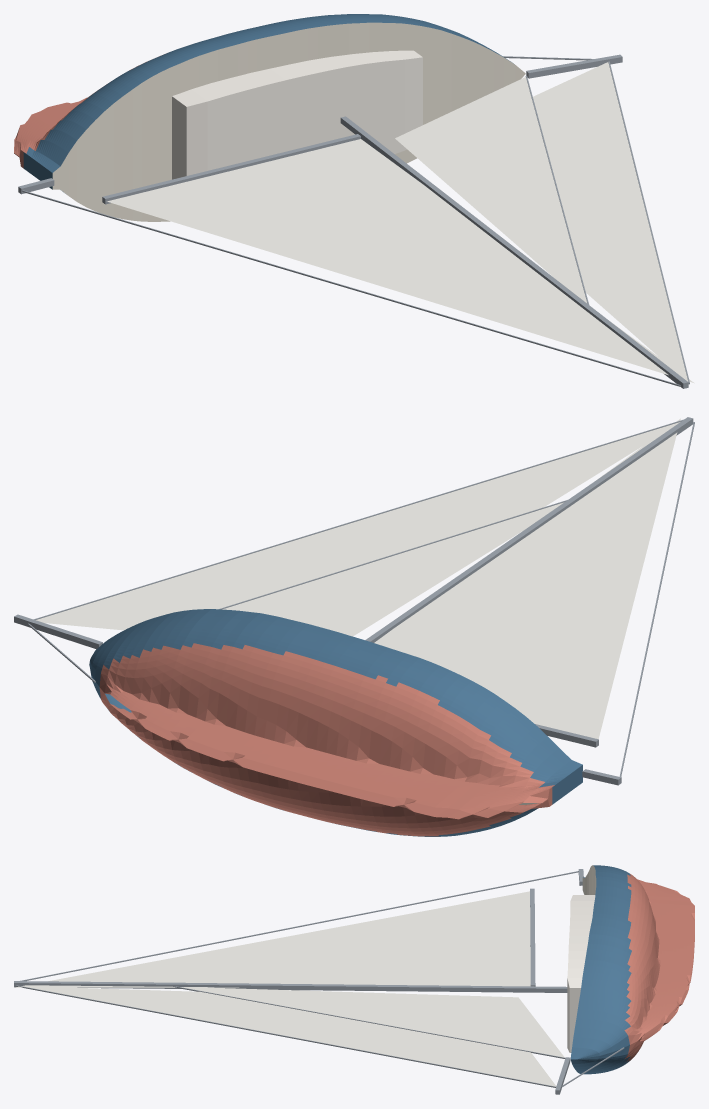
Rendered from westsail-32.glb.
3 renders of one model, top to bottom at view 1: azimuth 30°, elevation 25°; view 2: azimuth 150°, elevation 25°; view 3: azimuth 270°, elevation 25°, orthographic. The views are drawn at different scales.
Visible parts, largest first — view 1: Westsail 32; view 2: Westsail 32; view 3: Westsail 32.
Part boxes in pixels (<box>): Westsail 32: <box>14,14,694,388</box>; Westsail 32: <box>14,417,694,836</box>; Westsail 32: <box>14,865,694,1094</box>.
Bounding box in the file's own units: 2.52 × 0.694 × 3.27.
